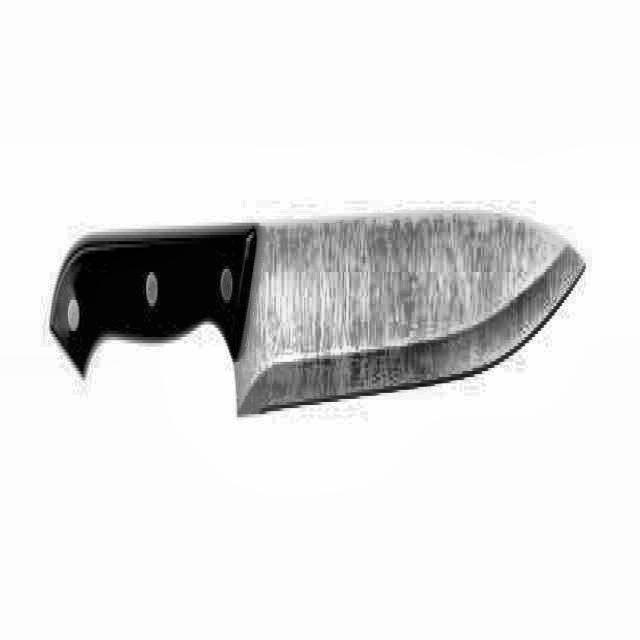pisau: (43, 206, 599, 420)
